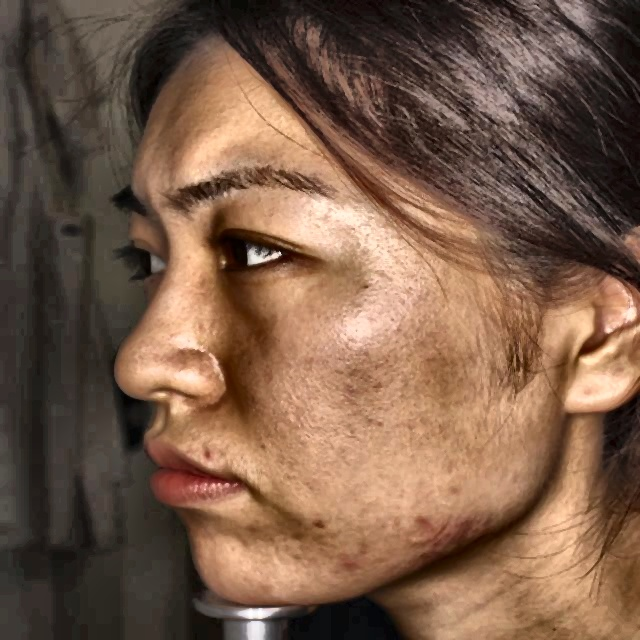pustule: (330, 553, 366, 580), (450, 518, 486, 543), (401, 509, 434, 532), (306, 509, 333, 537), (204, 444, 221, 471), (418, 539, 435, 554)
